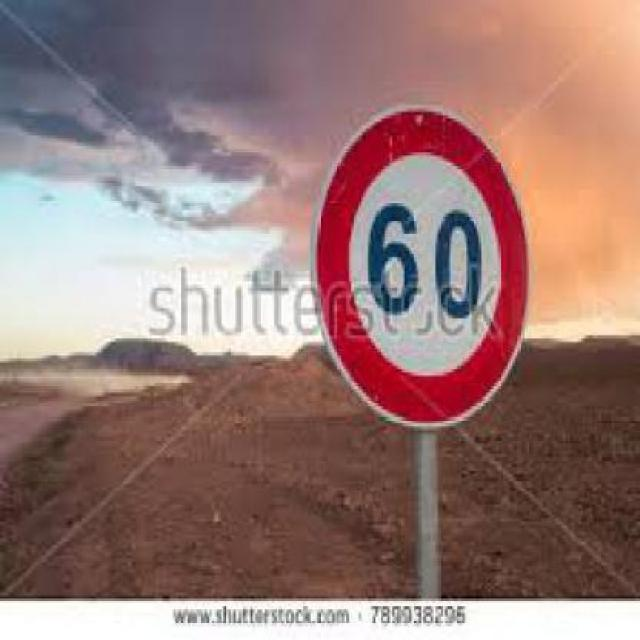Ograniczenie predkosci do 60: (313, 115, 522, 427)
